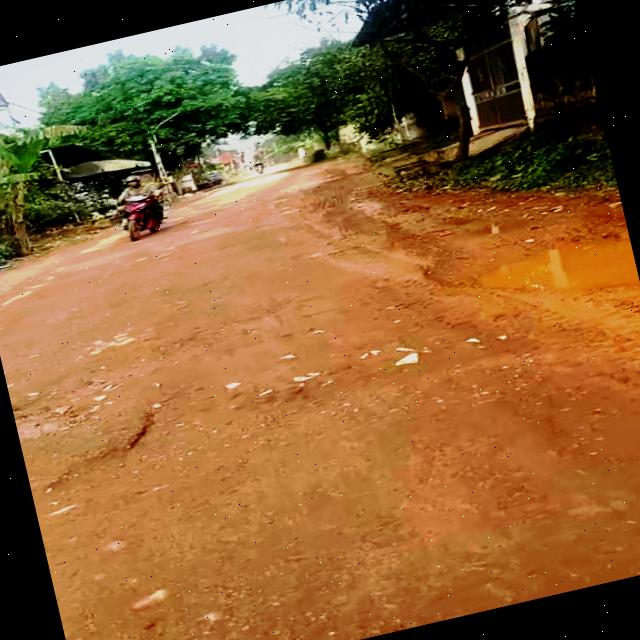pothole: (477, 227, 640, 322), (11, 382, 118, 444)
